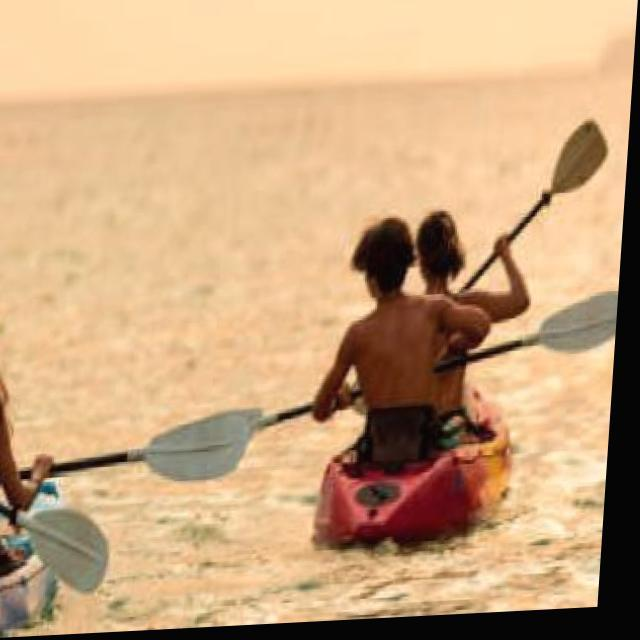kayak: (324, 399, 519, 548), (0, 529, 65, 639)
